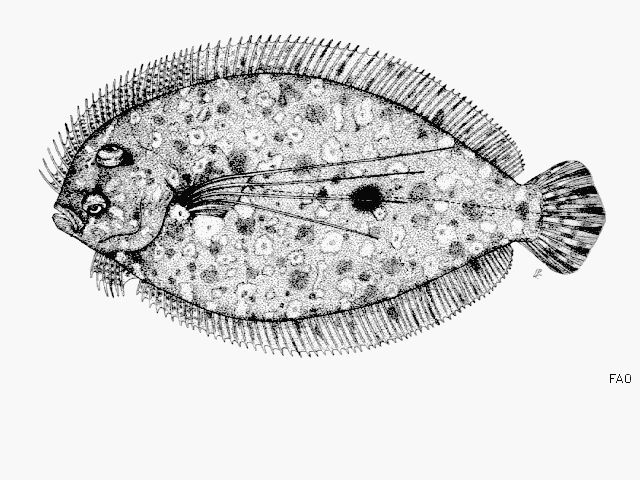fish: (40, 36, 608, 355)
